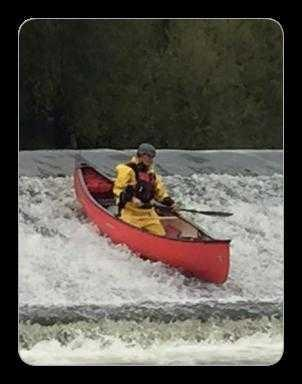kayak: (72, 161, 232, 285)
